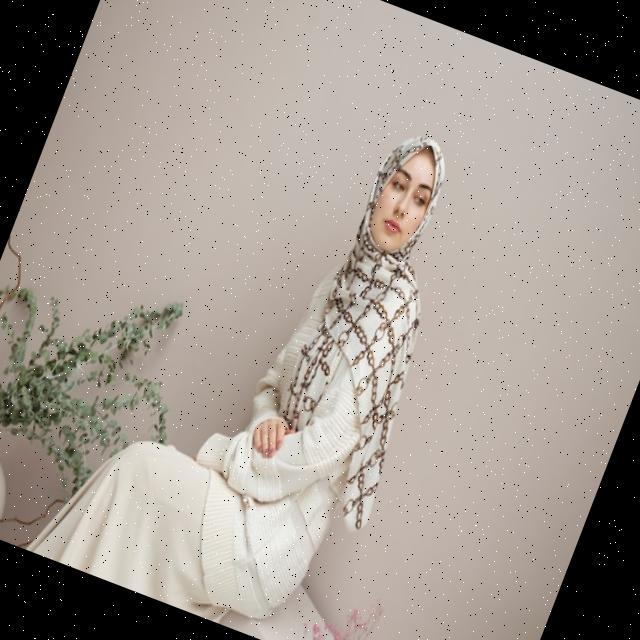Person: (21, 53, 502, 640)
